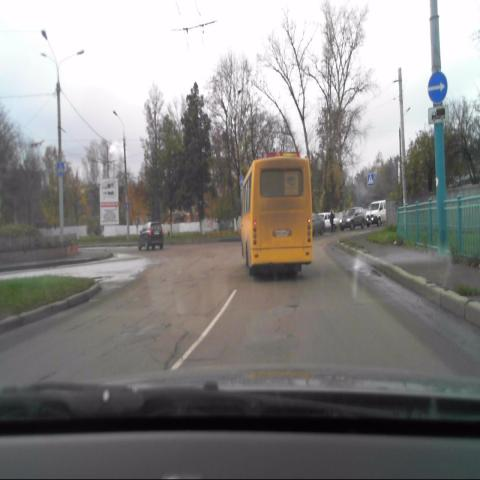4_1_2_1: (428, 70, 448, 104)
8_4_1: (427, 105, 449, 124)
